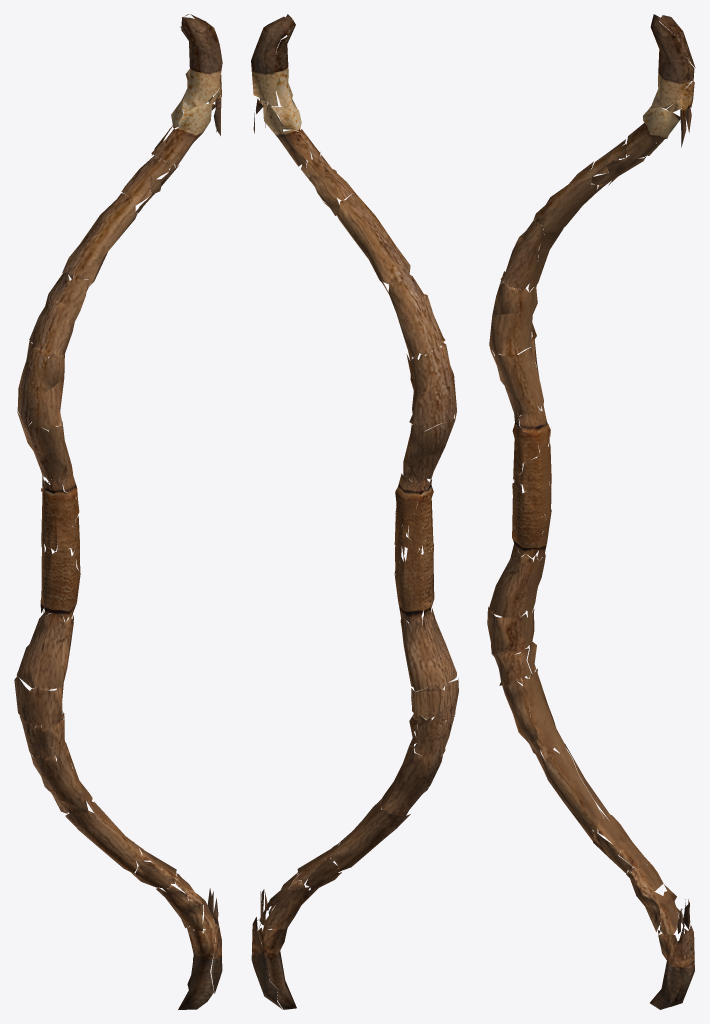
File: recurve_bow.glb
3 views of the same model, side by side, from view 1: azimuth 30°, elevation 25°; view 2: azimuth 150°, elevation 25°; view 3: azimuth 330°, elevation 25° (orthographic).
Parts seen in each view (by area): view 1: recurve_bow; view 2: recurve_bow; view 3: recurve_bow.
Boxes of the visible parts, left/top/right/bottom form: recurve_bow: left=14, top=14, right=222, bottom=1009; recurve_bow: left=251, top=14, right=458, bottom=1009; recurve_bow: left=487, top=14, right=695, bottom=1009.
Size of the model in its own units: 0.3015 by 1.43 by 0.0822.
Materials: 1 (1 with a texture image).
